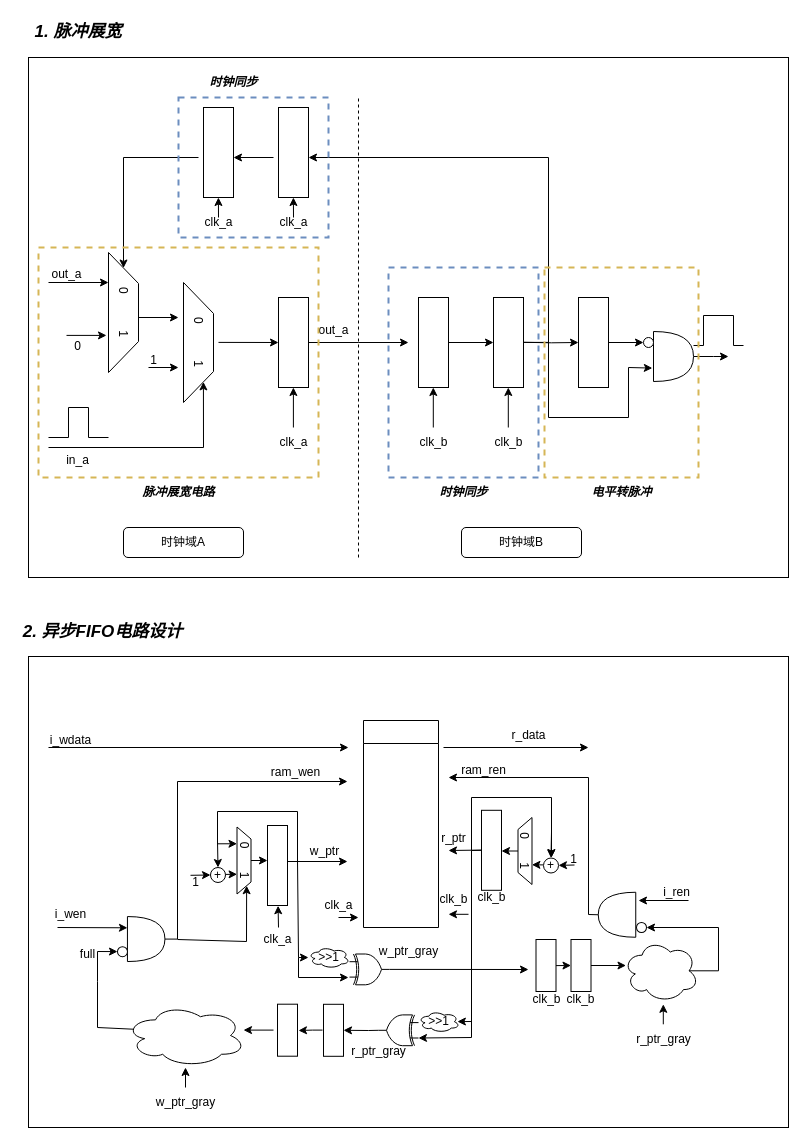
Some shapes in this 806 by 1145 pixel diagram are drawn without their labels. Each missing label, with the centre of its shape:
"compare ===" goes at (x=660, y=970).
"compare 最高2位不同 其余相同" goes at (x=185, y=1035).
"RAM" goes at (x=400, y=824).
